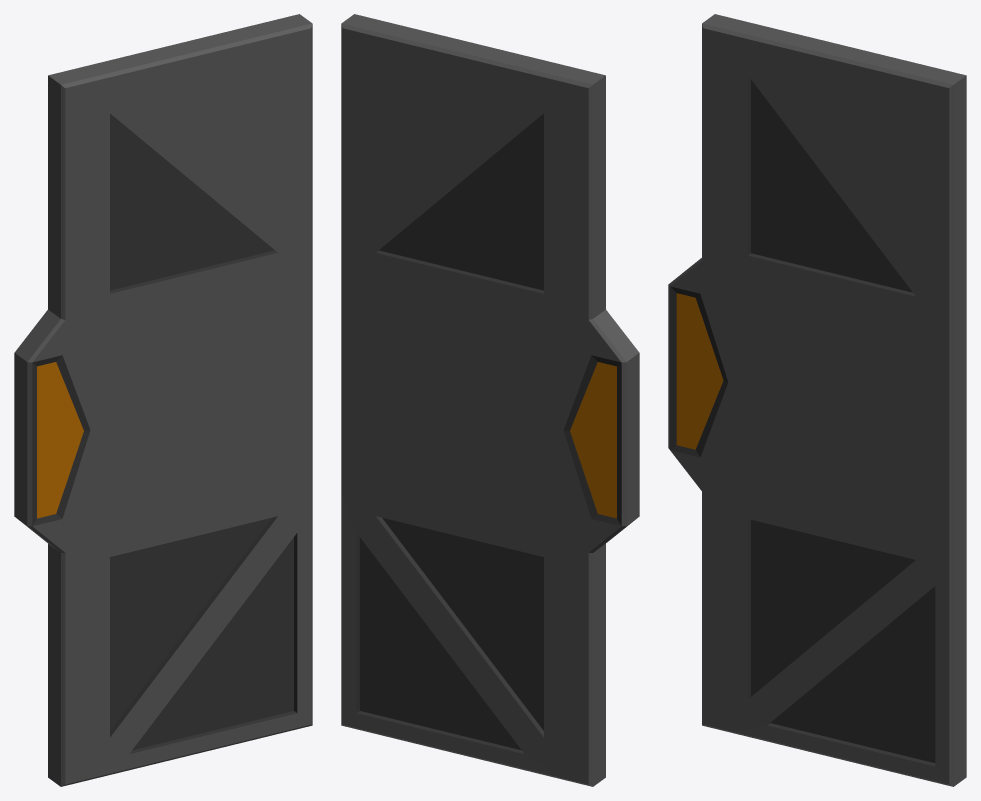
Rendered from area_51_door_right.glb.
The picture shows the model from 3 angles, left to right: view 1: azimuth 30°, elevation 25°; view 2: azimuth 150°, elevation 25°; view 3: azimuth 330°, elevation 25°; orthographic projection.
Parts seen in each view (by area): view 1: area51_door_right-col; view 2: area51_door_right-col; view 3: area51_door_right-col.
Part boxes in pixels (bbox=[...]): area51_door_right-col: bbox=[14, 14, 312, 786]; area51_door_right-col: bbox=[341, 14, 639, 786]; area51_door_right-col: bbox=[668, 14, 966, 786].
Bounding box in the file's own units: 1.02 × 2.4 × 0.1.
Materials: 1 (1 with a texture image).
